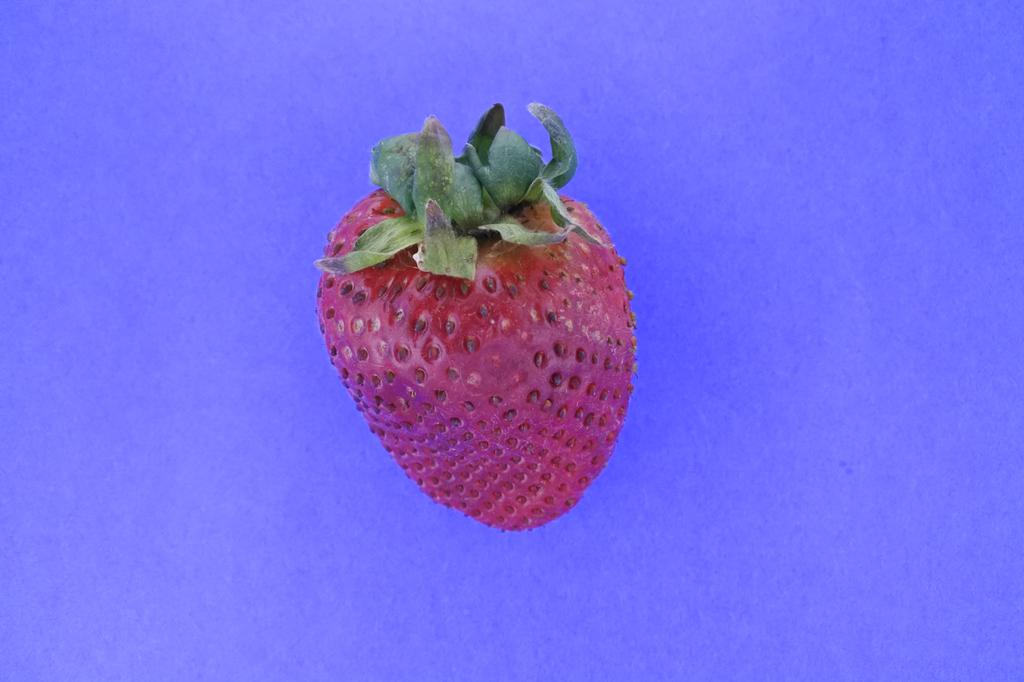red strawberry: (316, 101, 641, 533)
